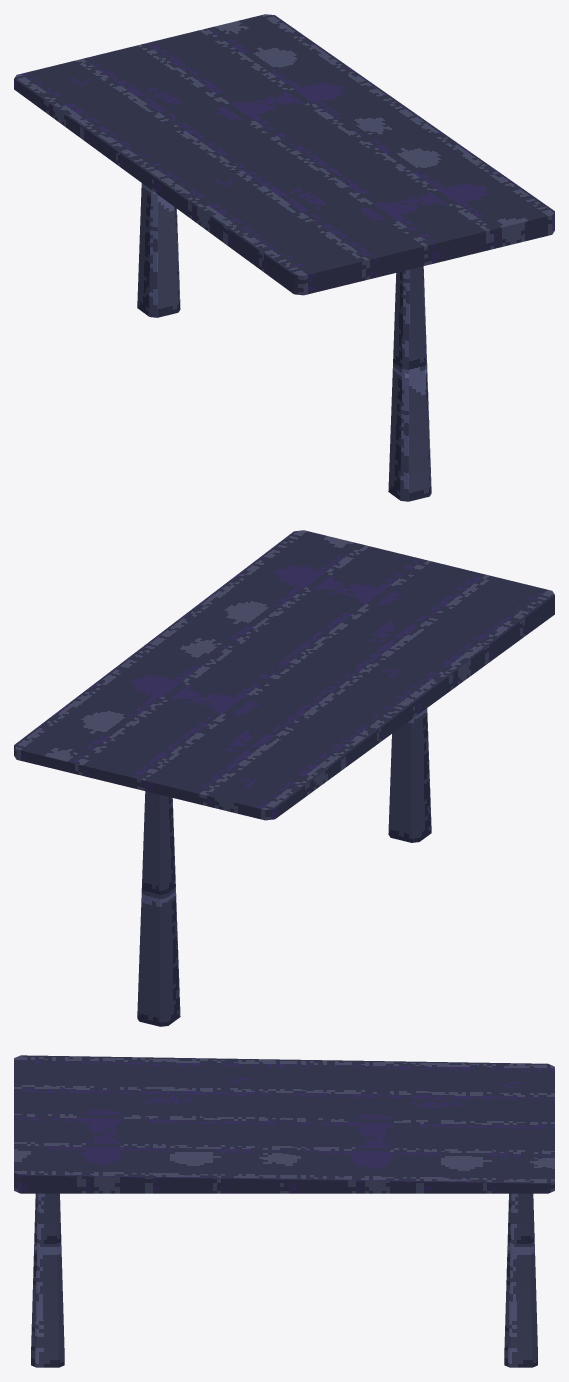
File: cyroom.canopy.glb
3 views of the same model, one above another, from view 1: azimuth 30°, elevation 25°; view 2: azimuth 150°, elevation 25°; view 3: azimuth 270°, elevation 25° (orthographic). The views are drawn at different scales.
Visible parts, largest first — view 1: kit_body; view 2: kit_body; view 3: kit_body.
Part boxes in pixels (x1,y1,x2,y2): kit_body: [14, 14, 554, 501]; kit_body: [14, 530, 554, 1026]; kit_body: [14, 1055, 554, 1367].
Bounding box in the file's own units: 4.2 × 4 × 8.
4 materials, 4 textured.
